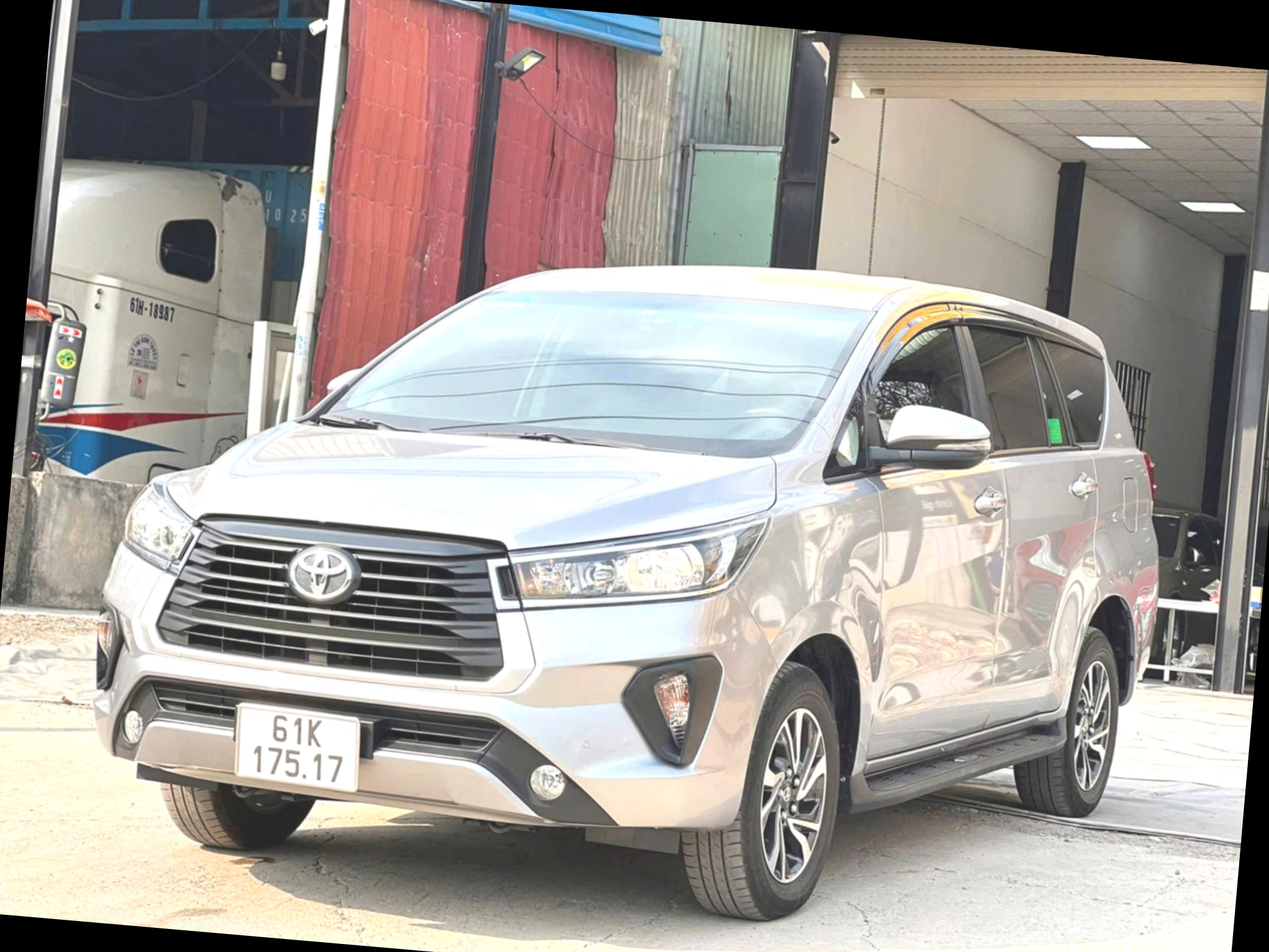Bien-so: (225, 699, 374, 798)
